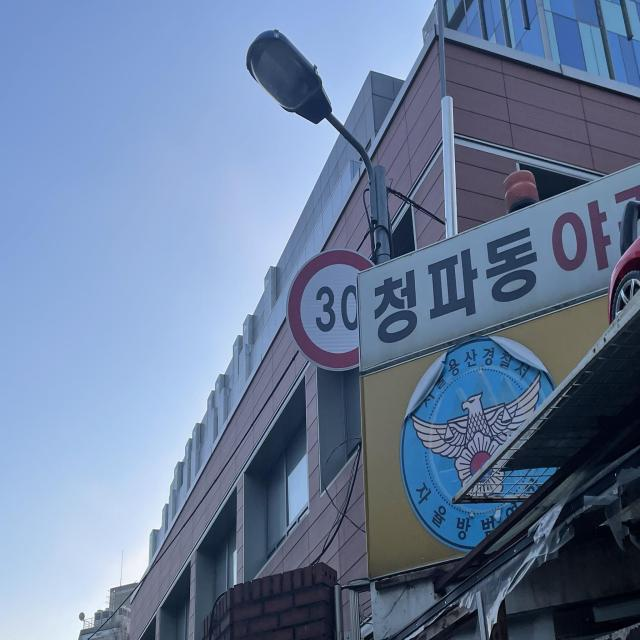speed_limit_30: (288, 249, 371, 369)
